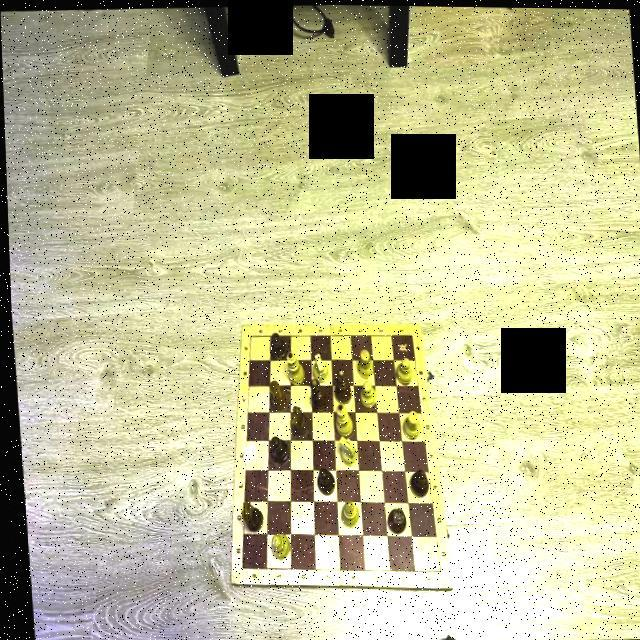chess-table-corners: (406, 330, 412, 337), (246, 332, 250, 340), (433, 567, 438, 572), (236, 564, 240, 569)
